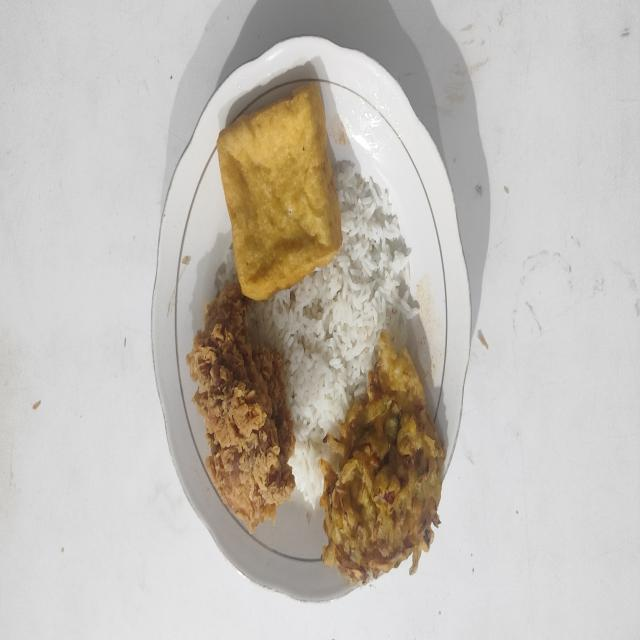nasi_putih: (246, 161, 419, 508)
tahu_goreng: (217, 82, 342, 300)
